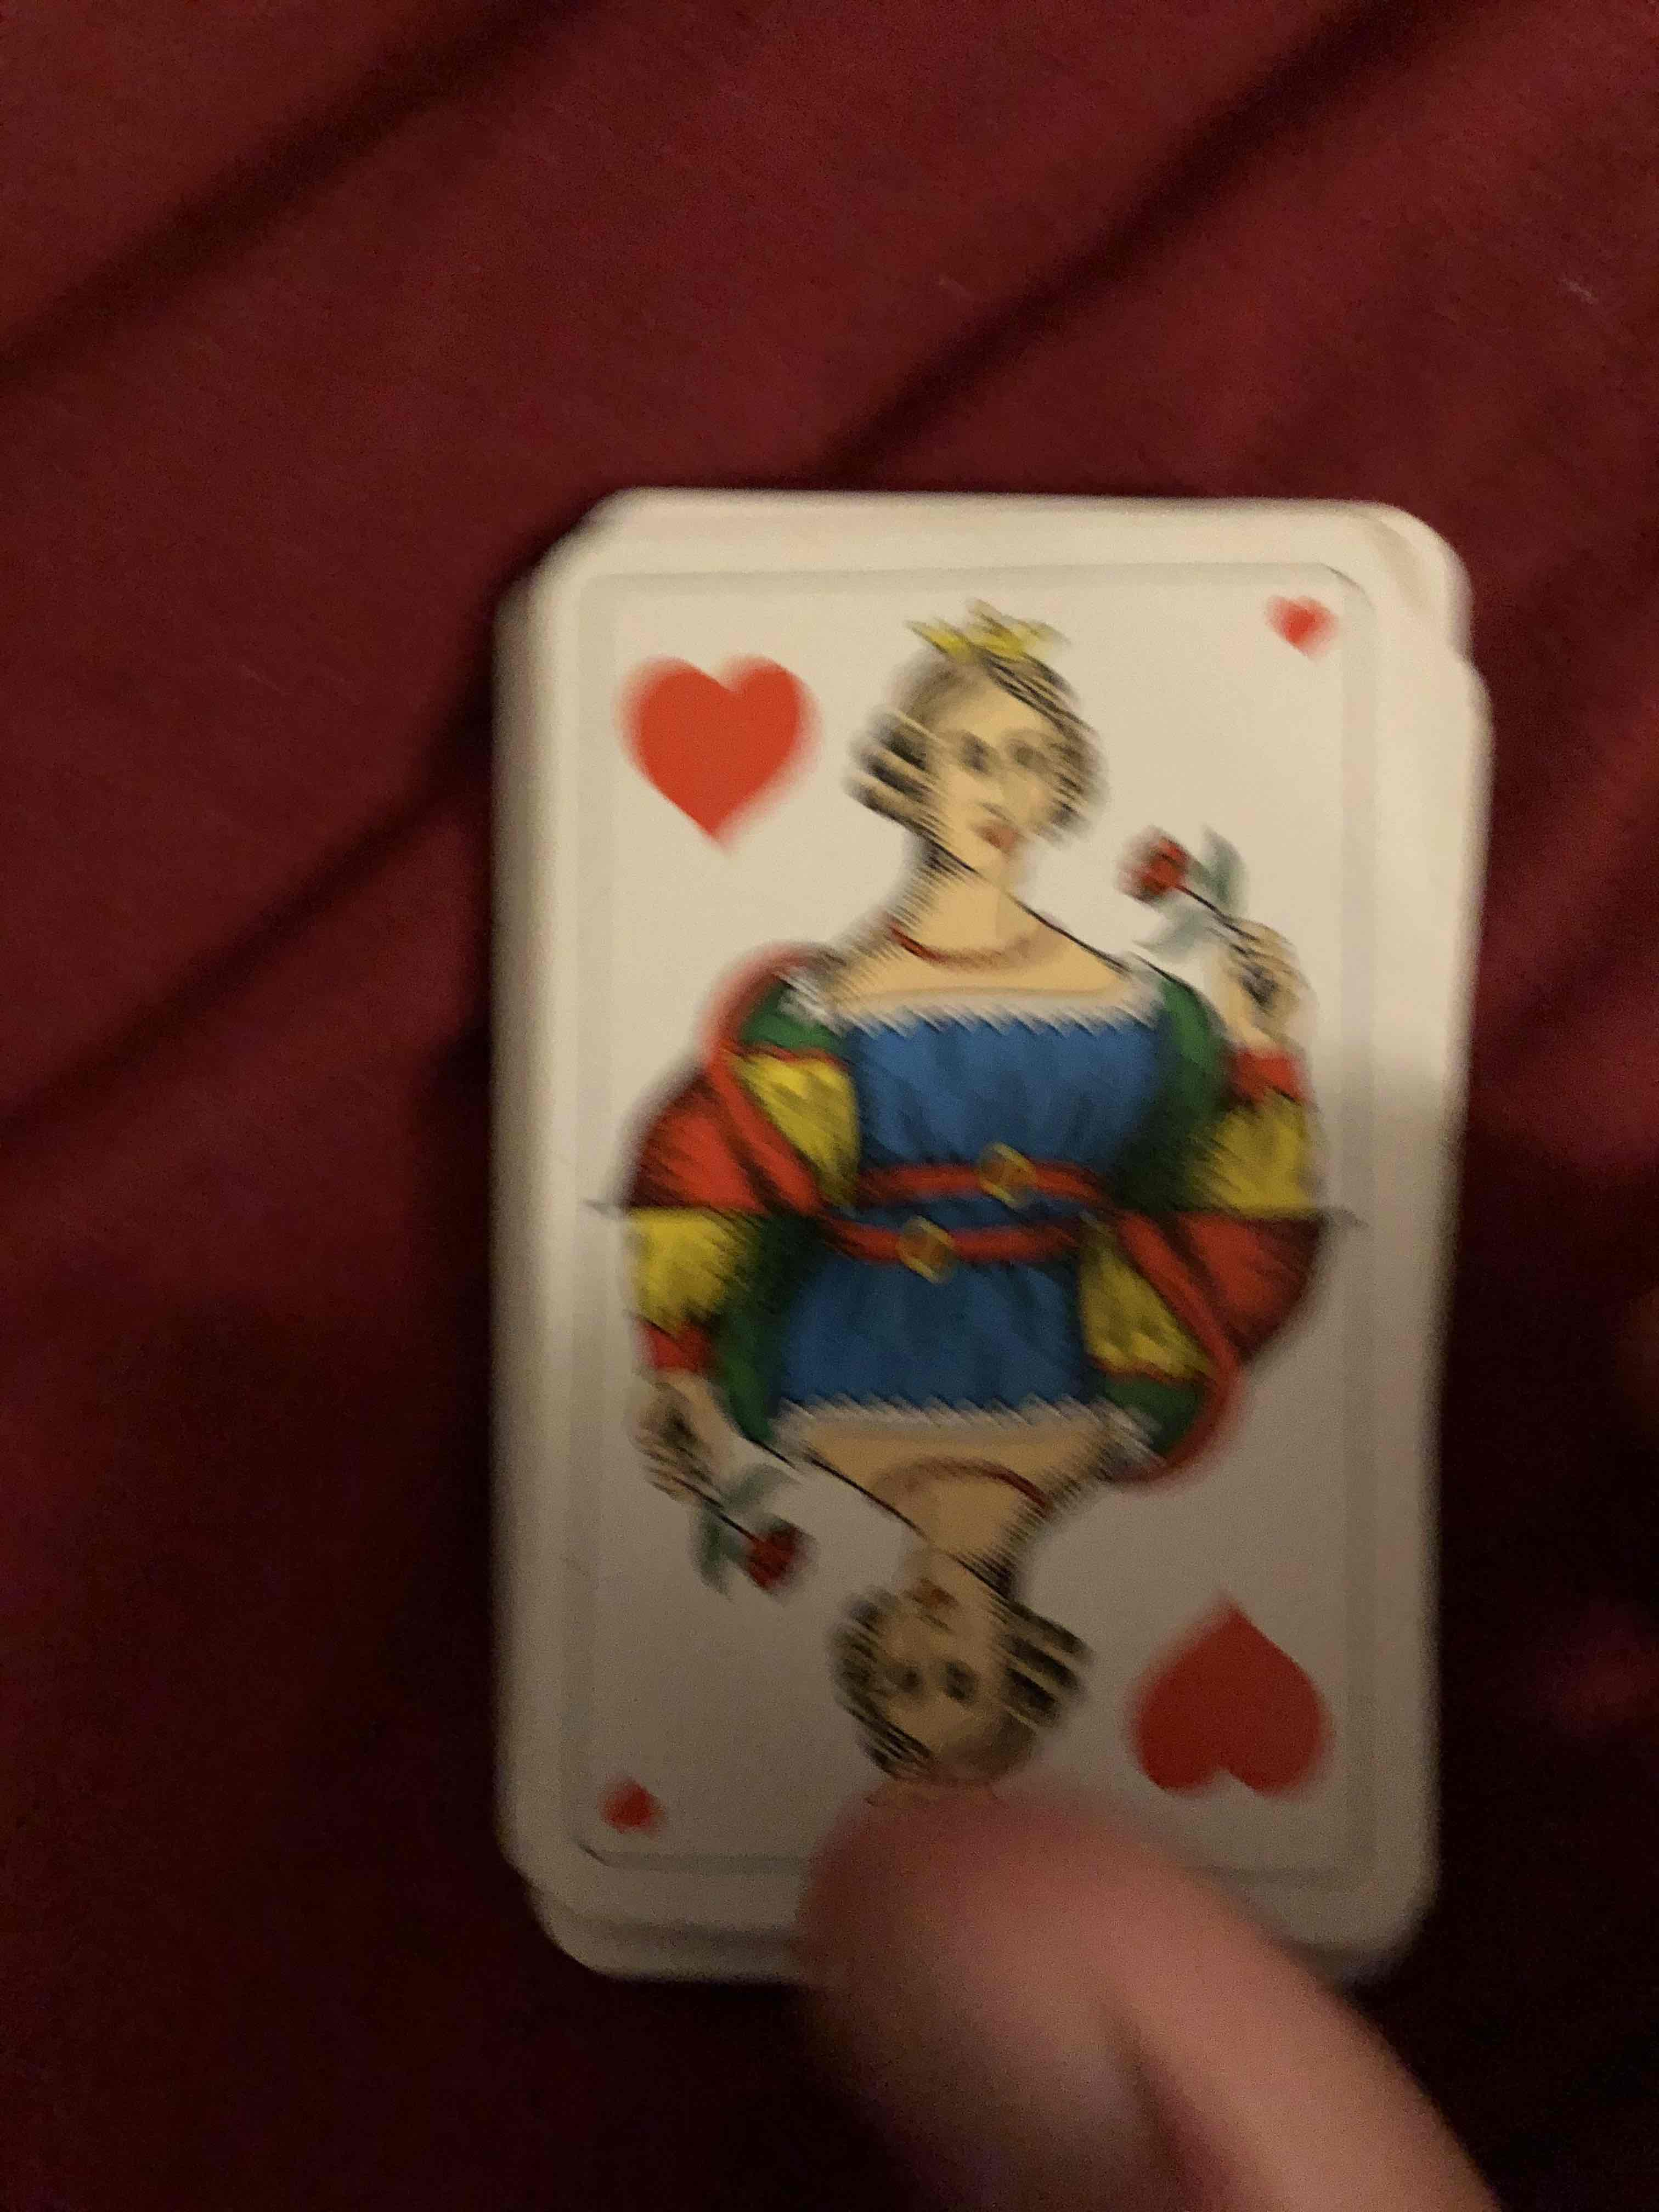heartsQueen: (532, 542, 1396, 1928)
